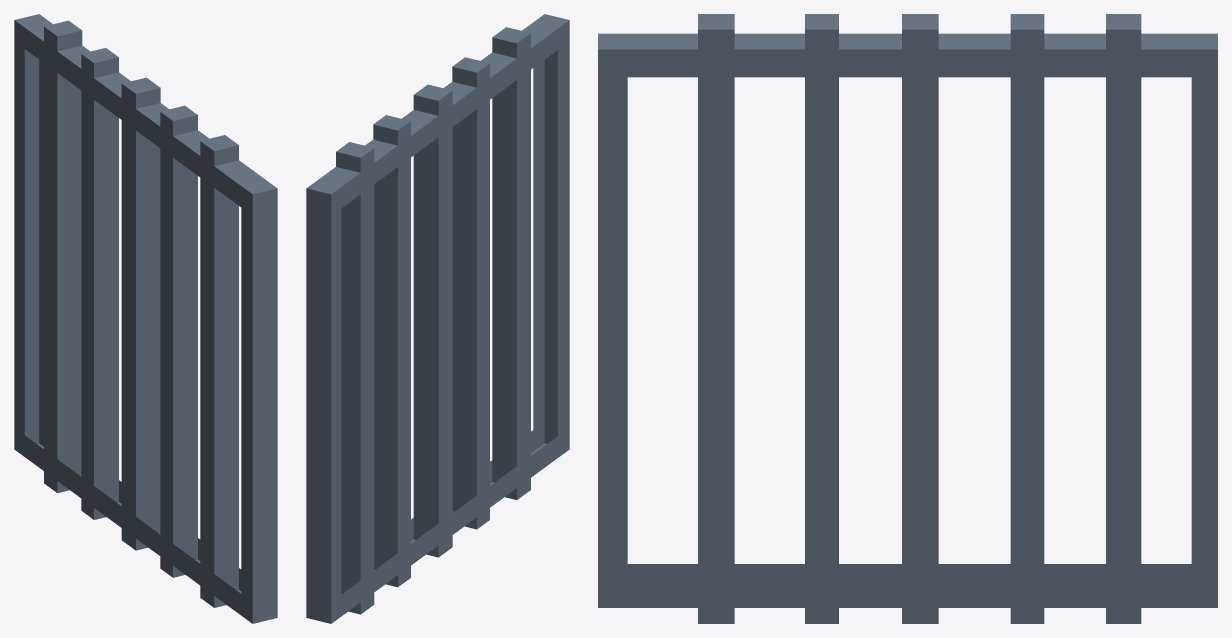
Rendered from Grille.dae.
3 views of the same model, side by side, from view 1: azimuth 30°, elevation 25°; view 2: azimuth 150°, elevation 25°; view 3: azimuth 270°, elevation 25° (orthographic). The views are drawn at different scales.
Visible parts, largest first — view 1: pCube1; view 2: pCube1; view 3: pCube1.
Boxes of the visible parts, bbox=[...] form: pCube1: bbox=[14, 14, 277, 623]; pCube1: bbox=[306, 14, 569, 623]; pCube1: bbox=[598, 14, 1217, 623].
Bounding box in the file's own units: 0.2549 × 4.48 × 4.24.
